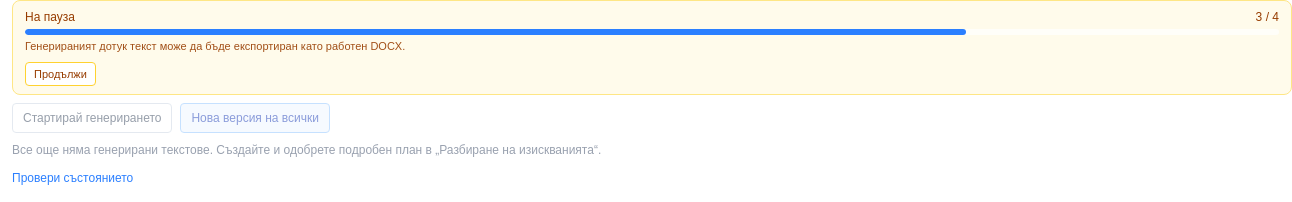
GenerationsPanel › resumes a paused generation job
The width and height of the screenshot is (1292, 202).
Expected: the text "Генерираният дотук текст може да бъде експортиран като работен DOCX." is shown, [25,40,405,52]
Click the button with test id "generation-job-resume-button" at x=60, y=74, box [25,62,96,86]
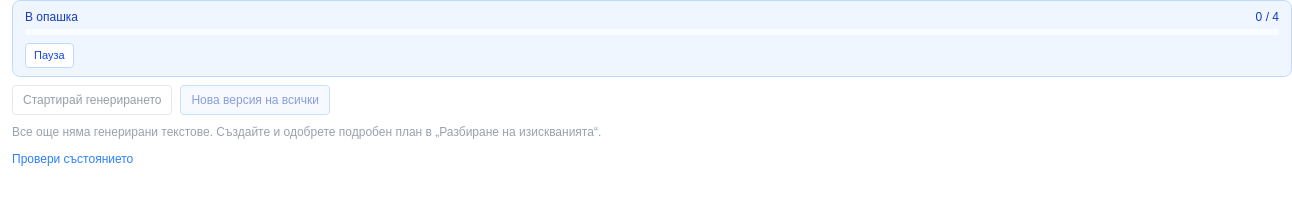
Now the text "0 / 4" is shown, box [1256,9,1279,25]
